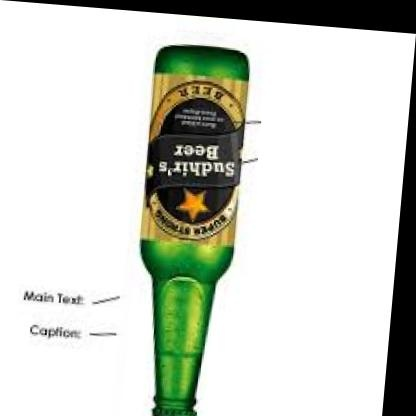trash: (141, 46, 248, 415)
